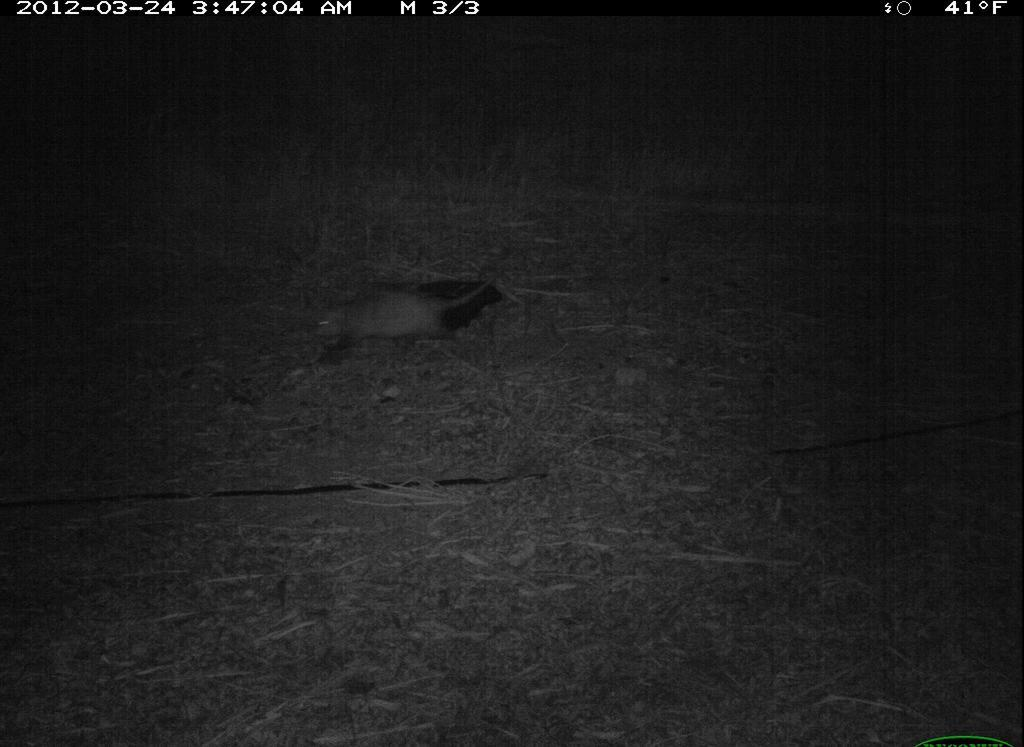opossum: (303, 260, 543, 374)
